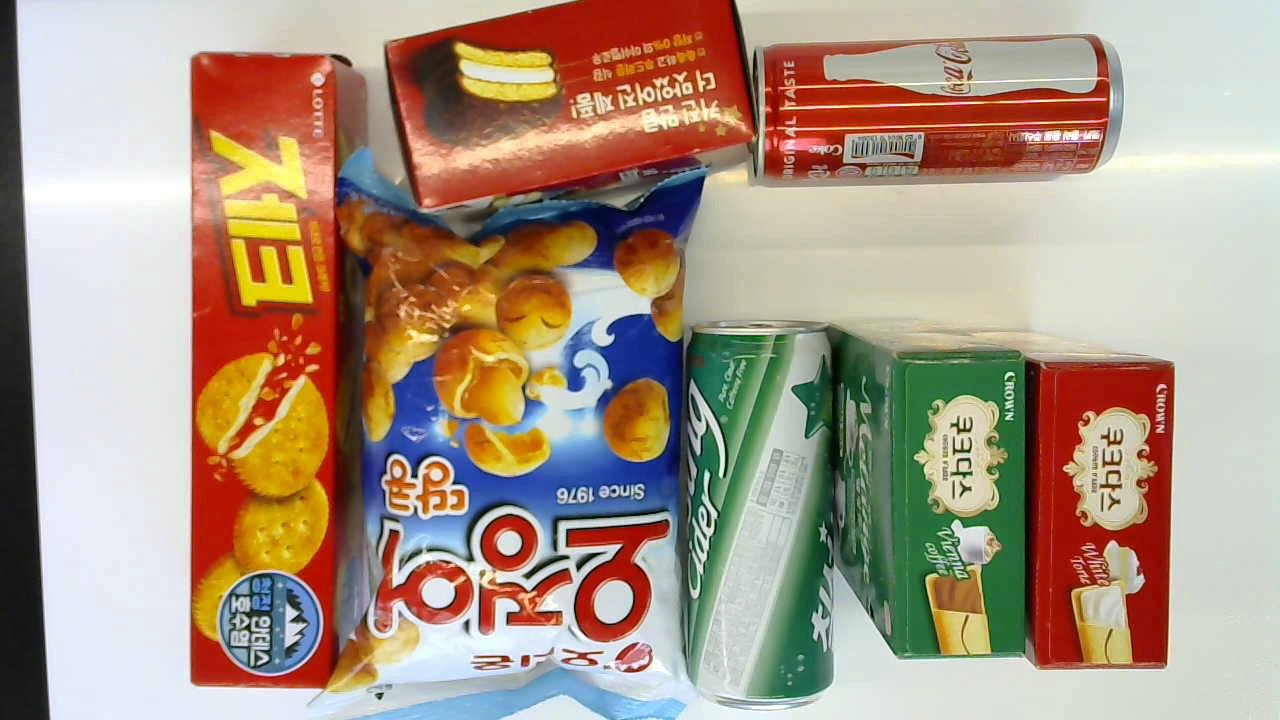chocopie: (387, 0, 749, 209)
cidar: (677, 320, 836, 713)
coke: (750, 34, 1120, 187)
couque_coffee: (841, 316, 1029, 660)
couque_white: (966, 326, 1170, 672)
squid_peanut: (327, 159, 708, 719)
zec: (182, 56, 366, 680)
